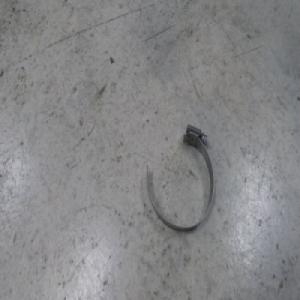AdjustableClamp: (143, 122, 213, 229)
